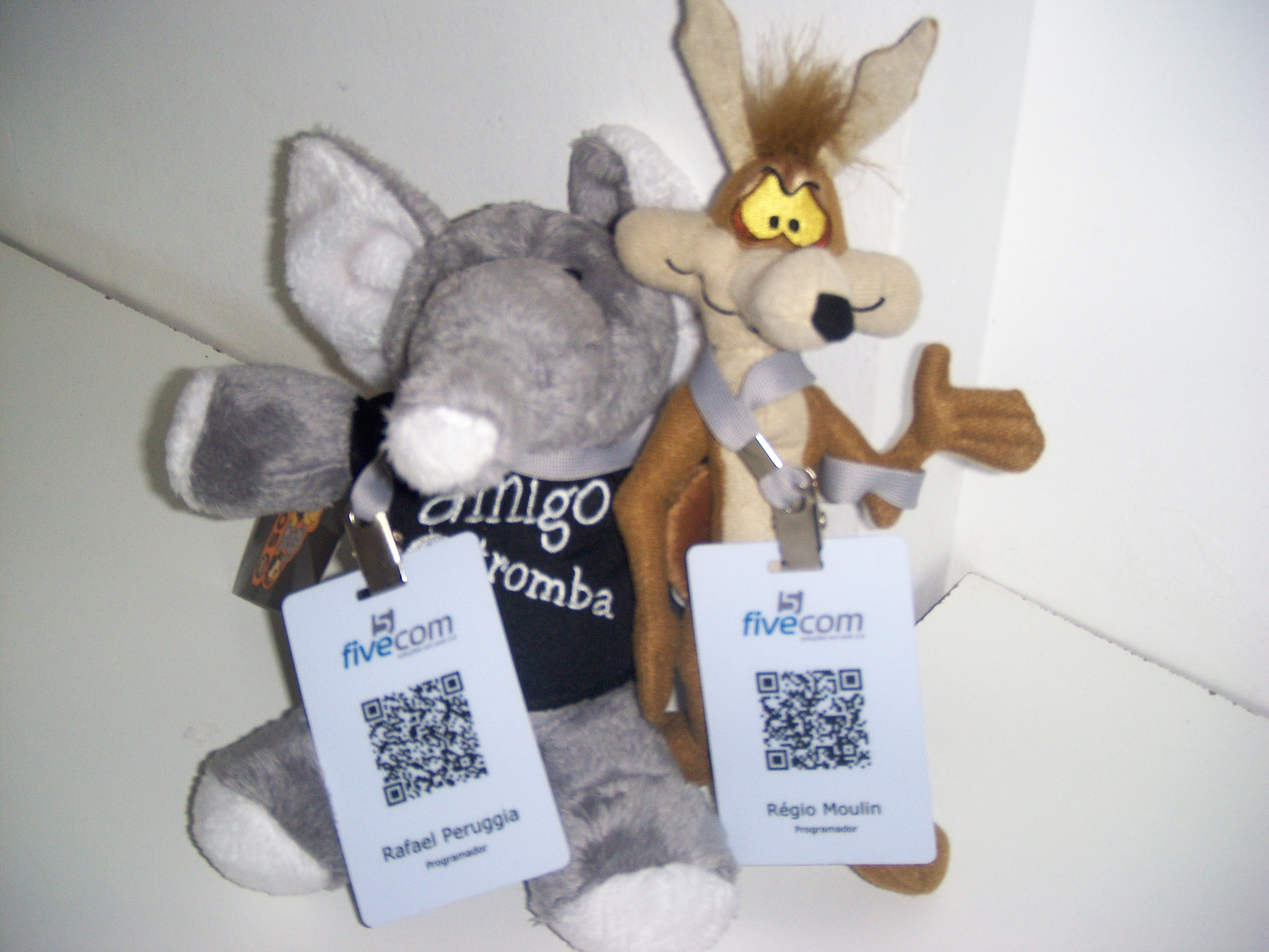QR-CODE: (360, 670, 488, 807), (755, 669, 871, 770)
